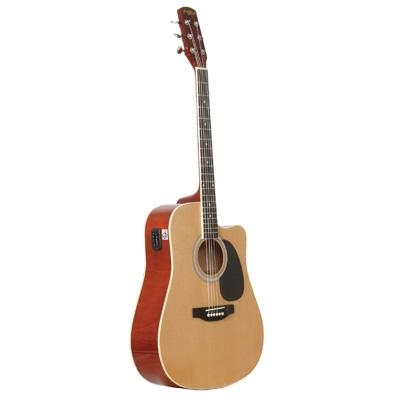guitar: (130, 6, 265, 394)
